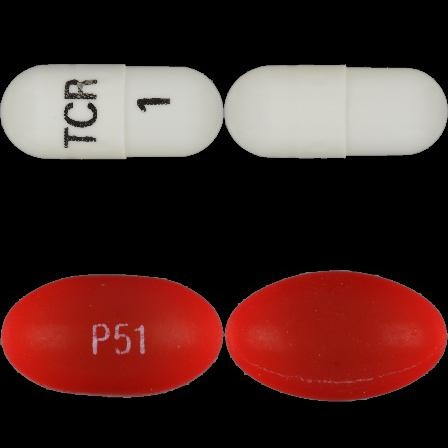0904-6425: (0, 0, 224, 224)
